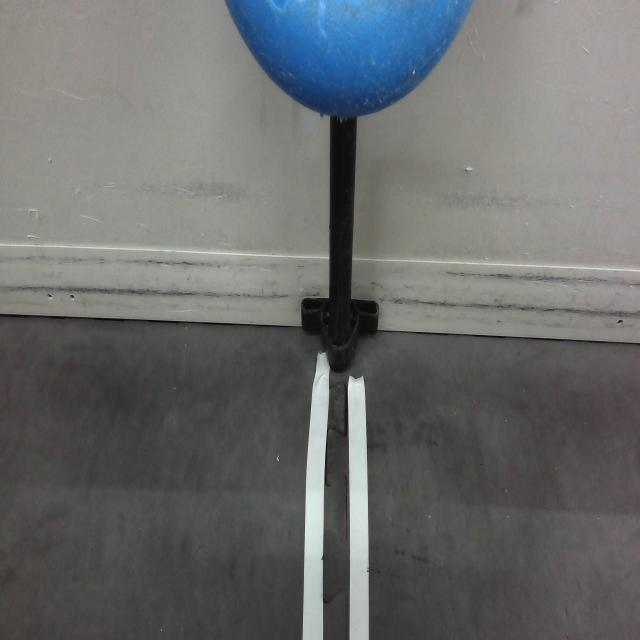Blue-Ring: (224, 0, 478, 118)
